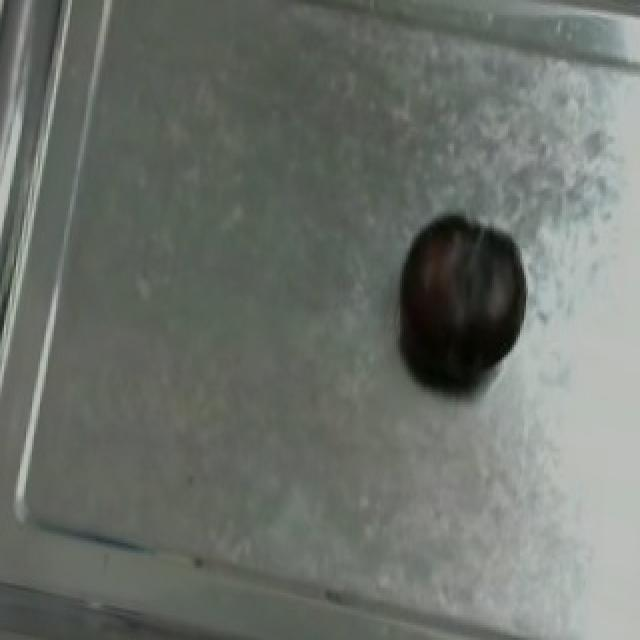Fruit: (380, 198, 540, 400)
